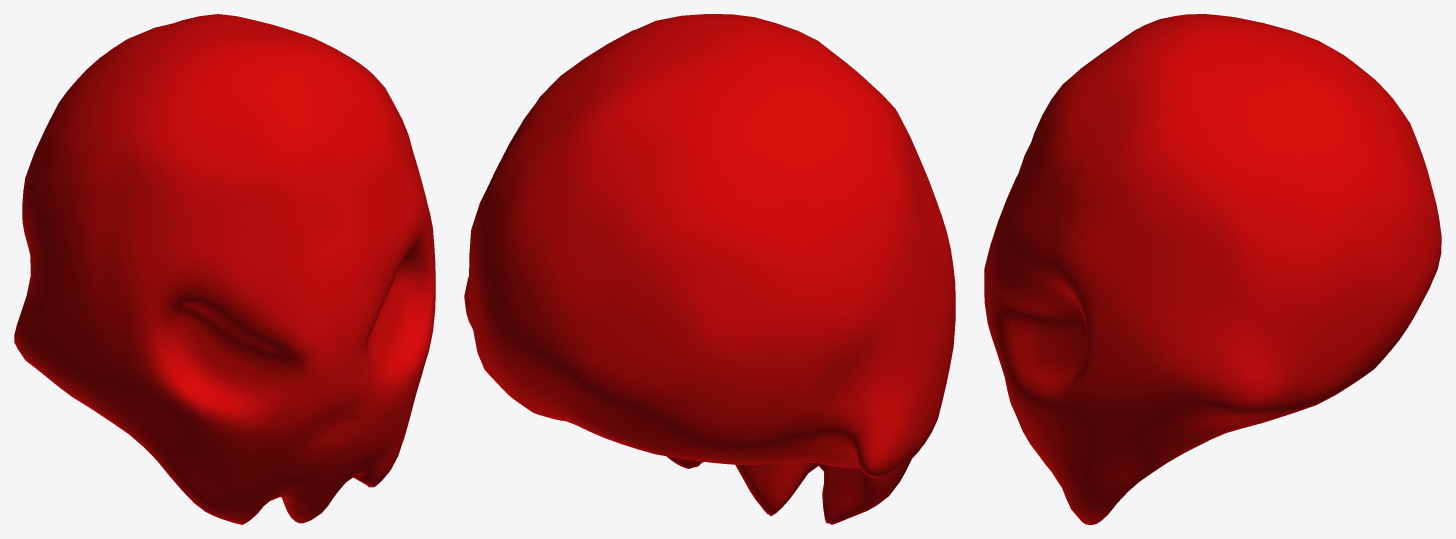
The model's file is SM_Skull_T.fbx.
The picture shows the model from 3 angles, left to right: view 1: azimuth 30°, elevation 25°; view 2: azimuth 150°, elevation 25°; view 3: azimuth 270°, elevation 25°; orthographic projection. The views are drawn at different scales.
Parts seen in each view (by area): view 1: SM_Skull_T; view 2: SM_Skull_T; view 3: SM_Skull_T.
Part boxes in pixels (<box>): SM_Skull_T: <box>14,14,435,524</box>; SM_Skull_T: <box>464,14,955,524</box>; SM_Skull_T: <box>984,14,1441,524</box>.
Size of the model in its own units: 3.26 by 3.7 by 3.26.
